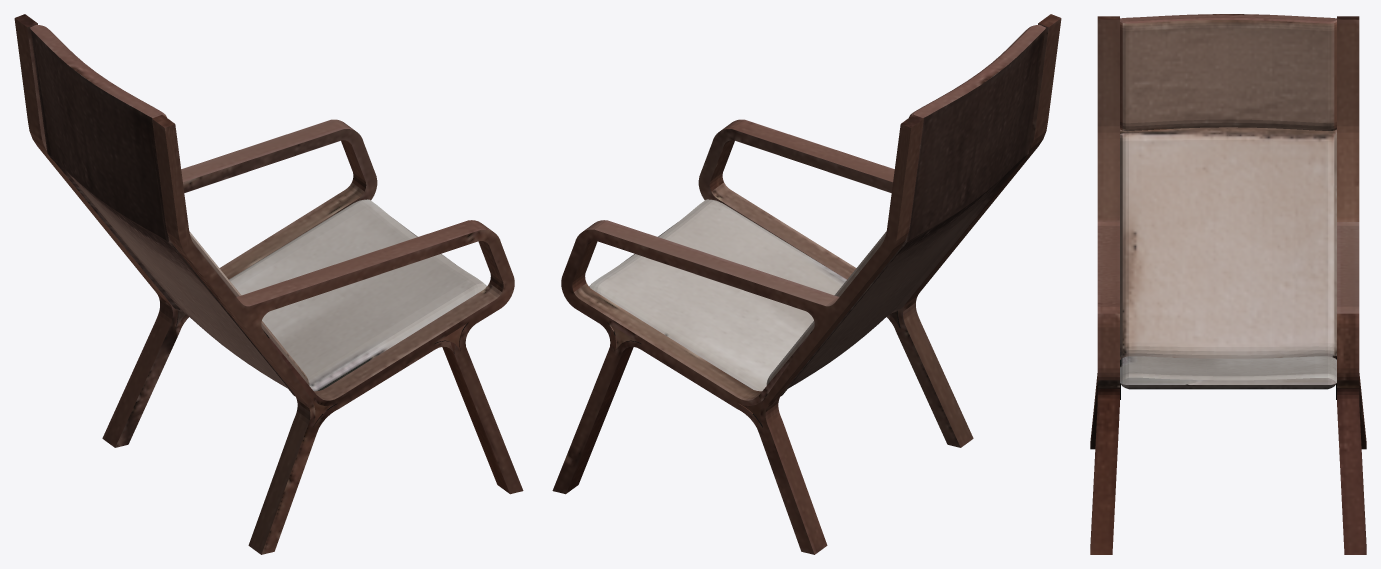
3 views of the same model, side by side, from view 1: azimuth 30°, elevation 25°; view 2: azimuth 150°, elevation 25°; view 3: azimuth 270°, elevation 25° (orthographic). The views are drawn at different scales.
Visible parts, largest first — view 1: Node; view 2: Node; view 3: Node.
Part boxes in pixels (box(x1,y1,x2,y2)): Node: box(14, 14, 523, 554); Node: box(552, 14, 1061, 554); Node: box(1090, 14, 1366, 554).
Bounding box in the file's own units: 0.5926 × 0.7 × 0.4506.
Materials: 1 (1 with a texture image).
